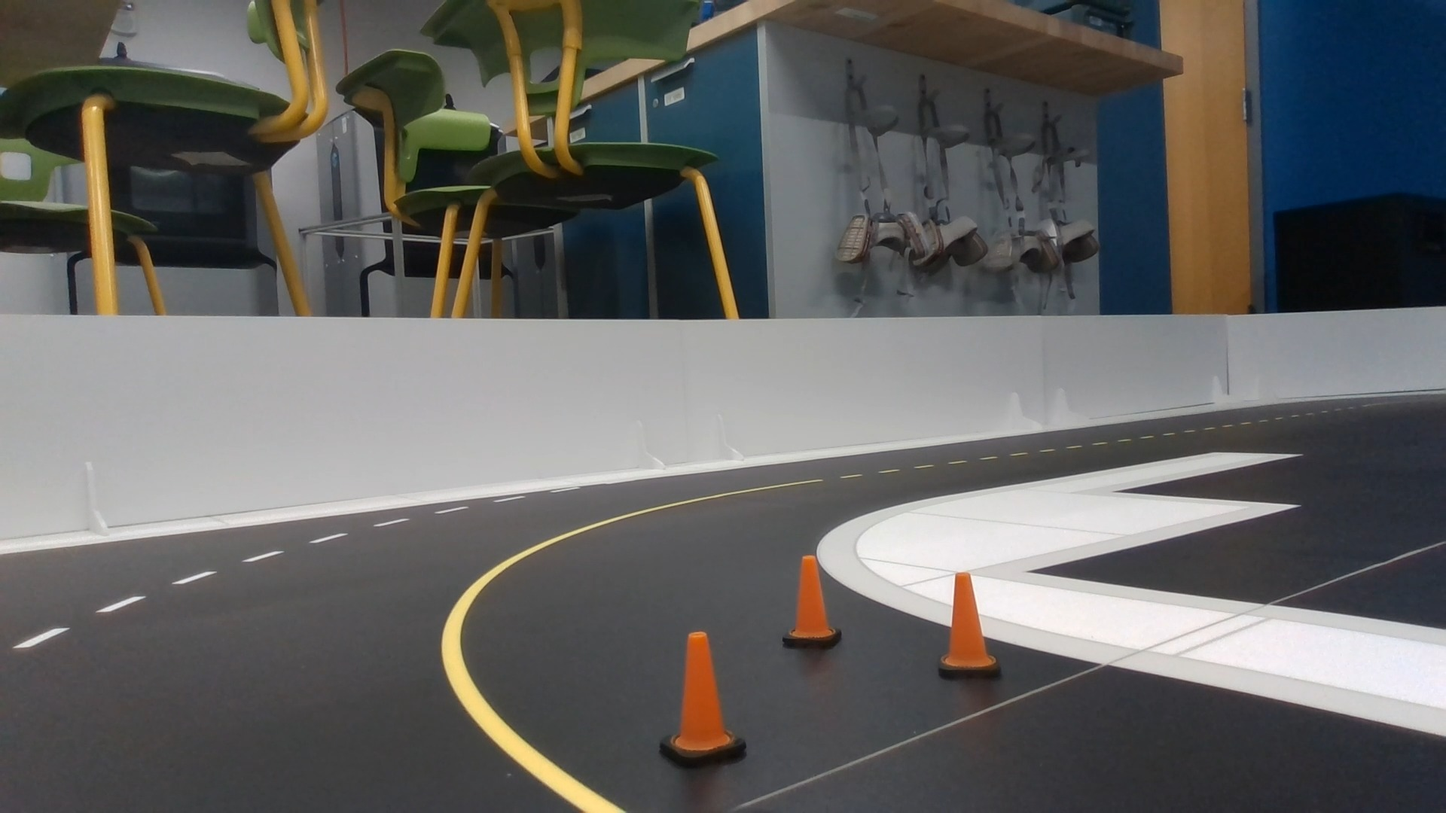Traffic Cone: (660, 632, 745, 766), (938, 573, 999, 678), (782, 556, 840, 648)
